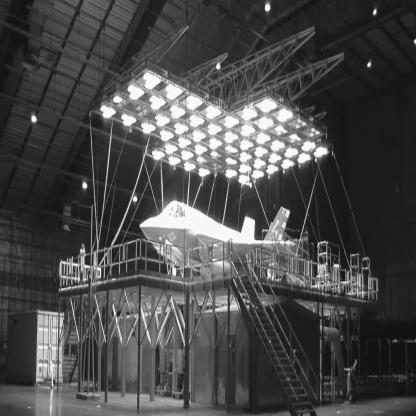F35: (140, 201, 302, 283)
